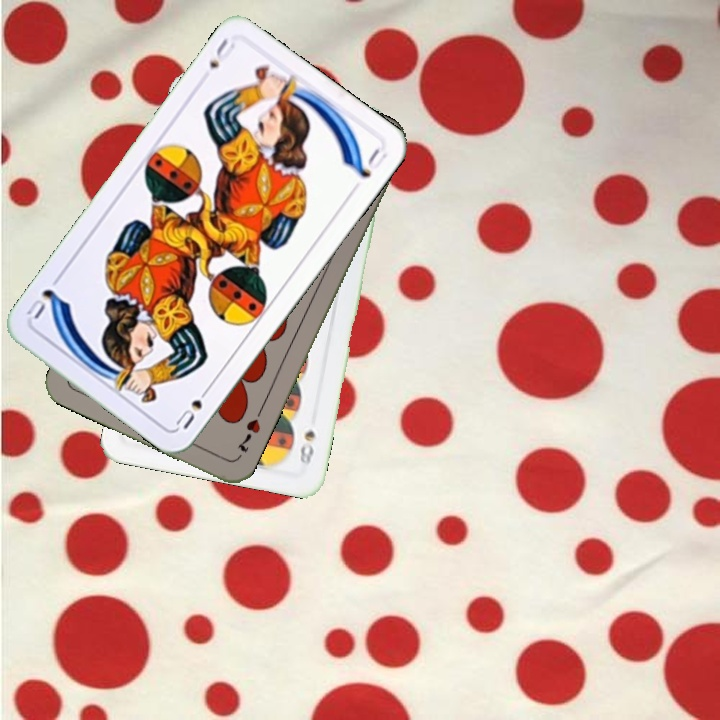H7: (232, 415, 263, 455)
S8: (295, 426, 318, 469)
SU: (171, 380, 215, 432), (205, 34, 238, 72)
